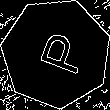P_W: (26, 27, 86, 79)
